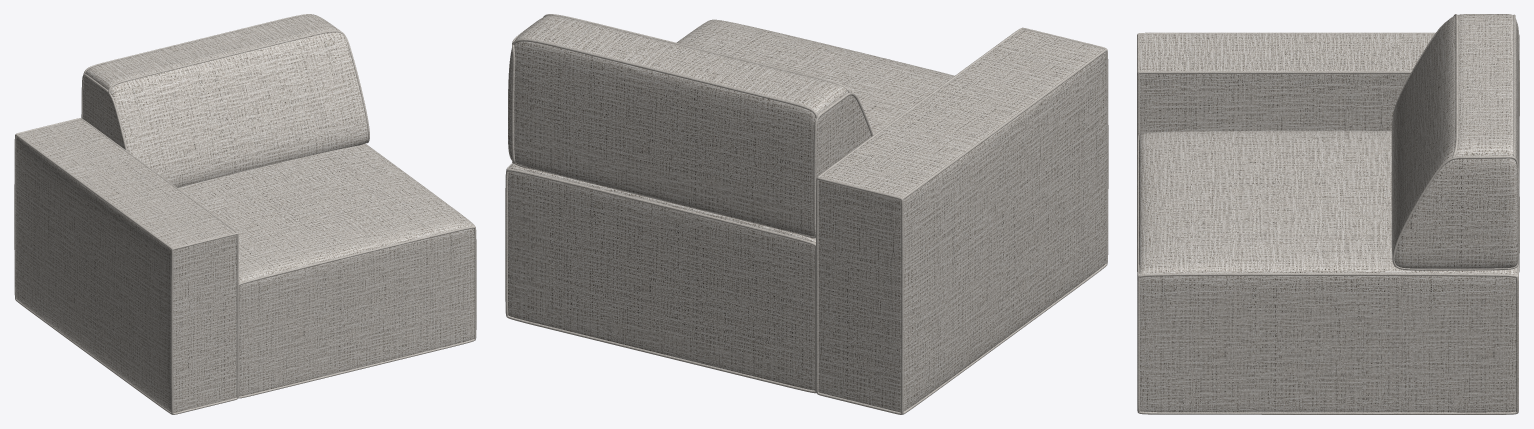
File: right_1_5_seater_arm_120_alpine_gray.glb
3 renders of one model, left to right at view 1: azimuth 30°, elevation 25°; view 2: azimuth 150°, elevation 25°; view 3: azimuth 270°, elevation 25°, orthographic. The views are drawn at different scales.
Parts seen in each view (by area): view 1: Box093, Box088, Box097, Shape048, Shape043, Shape039; view 2: Box088, Box093, Box097, Shape048, Shape039, Shape043; view 3: Box093, Box097, Box088, Shape043, Shape039, Shape048.
Boxes of the visible parts, x1,y1,x2,y2 form: Box093: (178, 143, 474, 396); Box088: (15, 119, 236, 412); Box097: (82, 14, 367, 187); Shape048: (14, 118, 238, 414); Shape043: (238, 143, 476, 398); Shape039: (81, 14, 369, 151); Box088: (818, 29, 1107, 412); Box093: (508, 19, 954, 390); Box097: (508, 15, 871, 236); Shape048: (816, 27, 1108, 414); Shape039: (511, 14, 873, 238); Shape043: (505, 20, 816, 393); Box093: (1139, 130, 1516, 412); Box097: (1391, 14, 1519, 268); Box088: (1139, 33, 1434, 134); Shape043: (1137, 135, 1518, 414); Shape039: (1392, 14, 1519, 270); Shape048: (1137, 32, 1519, 272).
Size of the model in its own units: 1.2 by 0.8369 by 1.07.
1 material, 1 textured.
